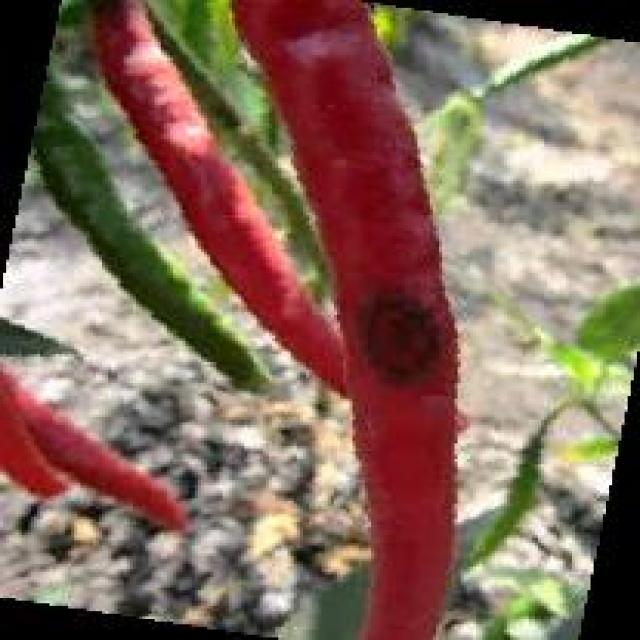Moko: (336, 285, 447, 395)
